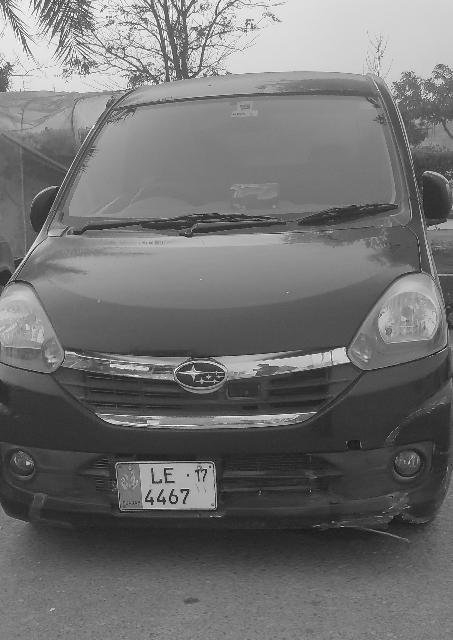Number: (144, 467, 192, 507)
